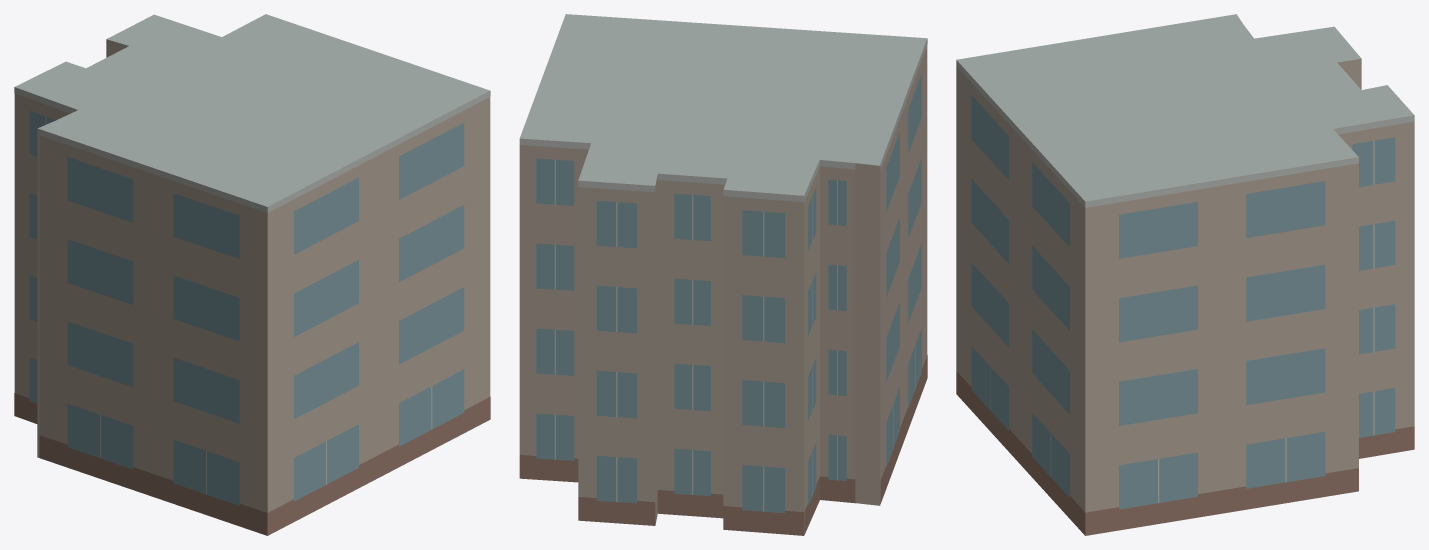
Rendered from survey-upis-32865603.glb.
3 renders of one model, left to right at view 1: azimuth 30°, elevation 25°; view 2: azimuth 150°, elevation 25°; view 3: azimuth 270°, elevation 25°, orthographic. The views are drawn at different scales.
Parts seen in each view (by area): view 1: survey-upis-32865603.tmp; view 2: survey-upis-32865603.tmp; view 3: survey-upis-32865603.tmp.
Boxes of the visible parts, x1=… form: survey-upis-32865603.tmp: x1=14, y1=14, x2=490, y2=535; survey-upis-32865603.tmp: x1=519, y1=14, x2=927, y2=535; survey-upis-32865603.tmp: x1=956, y1=14, x2=1414, y2=535.
Size of the model in its own units: 15.6 by 12.95 by 16.11.
